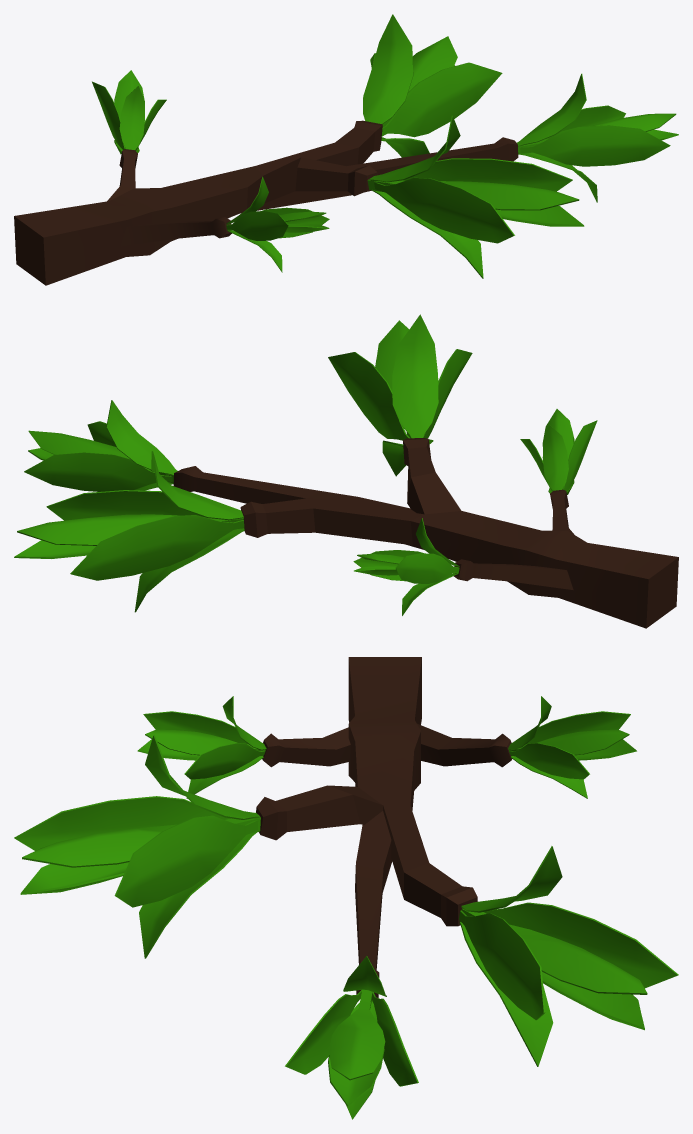
File: platf_leaf2.FBX
3 renders of one model, top to bottom at view 1: azimuth 30°, elevation 25°; view 2: azimuth 150°, elevation 25°; view 3: azimuth 270°, elevation 25°, orthographic. The views are drawn at different scales.
Parts seen in each view (by area): view 1: Object006; view 2: Object006; view 3: Object006.
Boxes of the visible parts, bbox=[...] form: Object006: bbox=[14, 14, 678, 285]; Object006: bbox=[14, 314, 678, 628]; Object006: bbox=[14, 657, 678, 1119].
Size of the model in its own units: 32.39 by 10.12 by 23.65.
